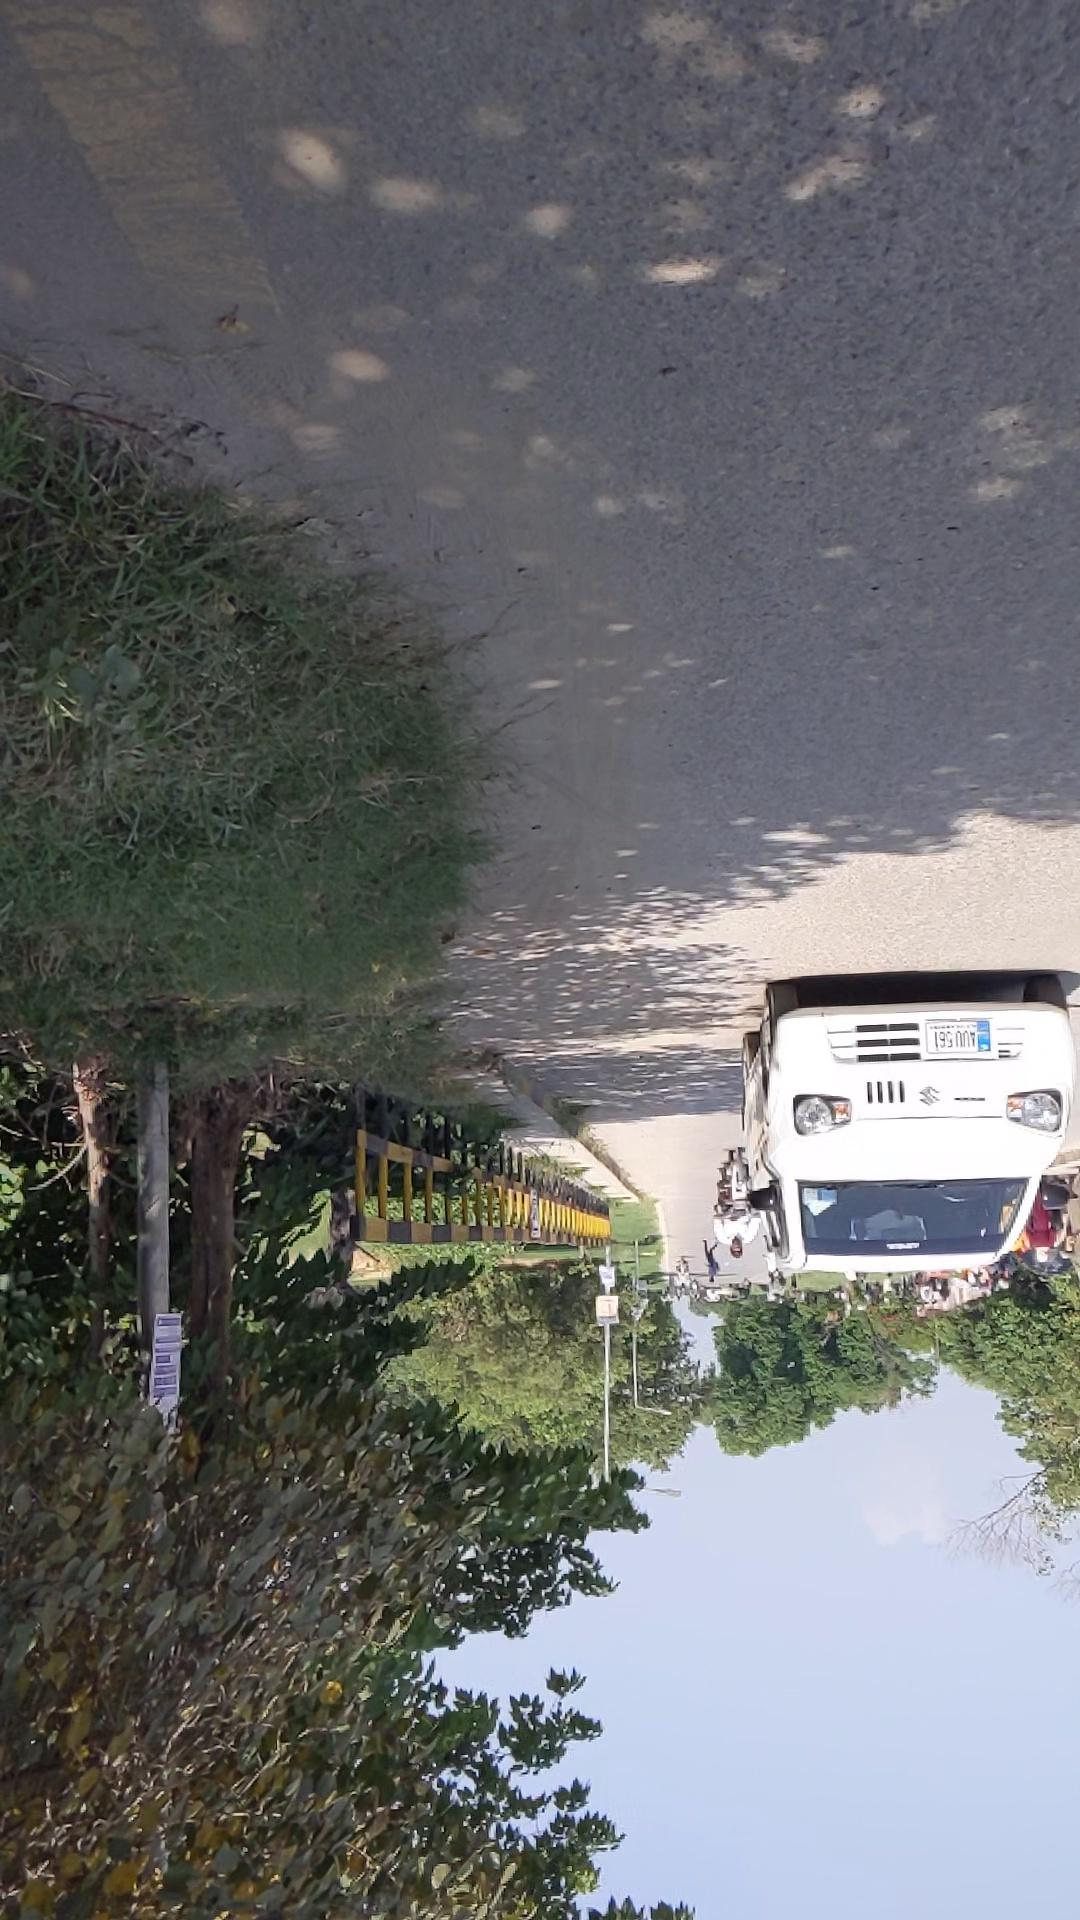windshield: (46, 662, 287, 740)
